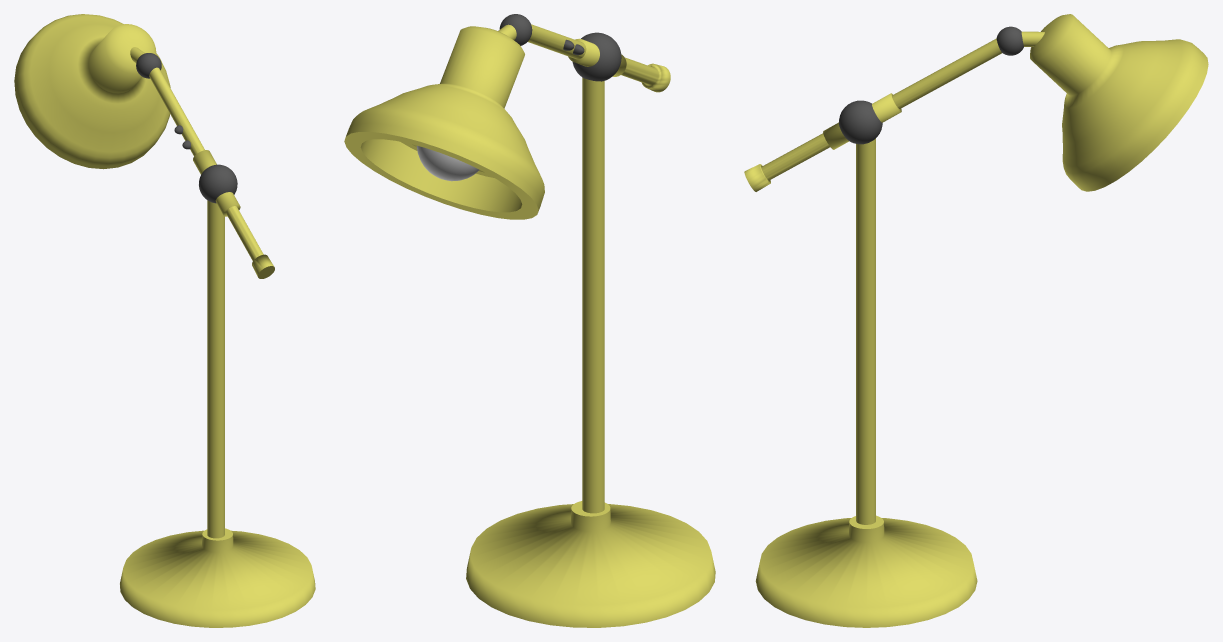
The model's file is LampSmall.fbx.
The picture shows the model from 3 angles, left to right: view 1: azimuth 30°, elevation 25°; view 2: azimuth 150°, elevation 25°; view 3: azimuth 270°, elevation 25°; orthographic projection. The views are drawn at different scales.
Visible parts, largest first — view 1: LampSmall; view 2: LampSmall; view 3: LampSmall.
Part boxes in pixels (left/top/right/bottom): LampSmall: left=14, top=14, right=315, bottom=627; LampSmall: left=344, top=14, right=715, bottom=627; LampSmall: left=744, top=14, right=1208, bottom=627.
Size of the model in its own units: 0.6294 by 1.76 by 1.32.
